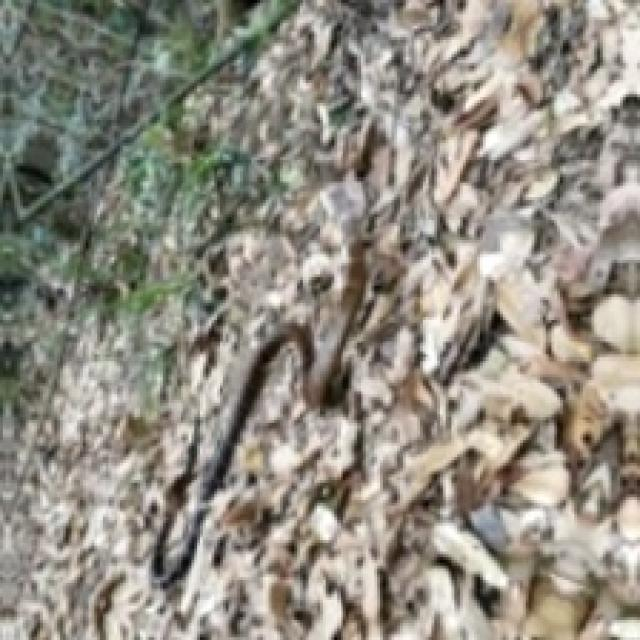king cobra: (106, 0, 637, 637)
